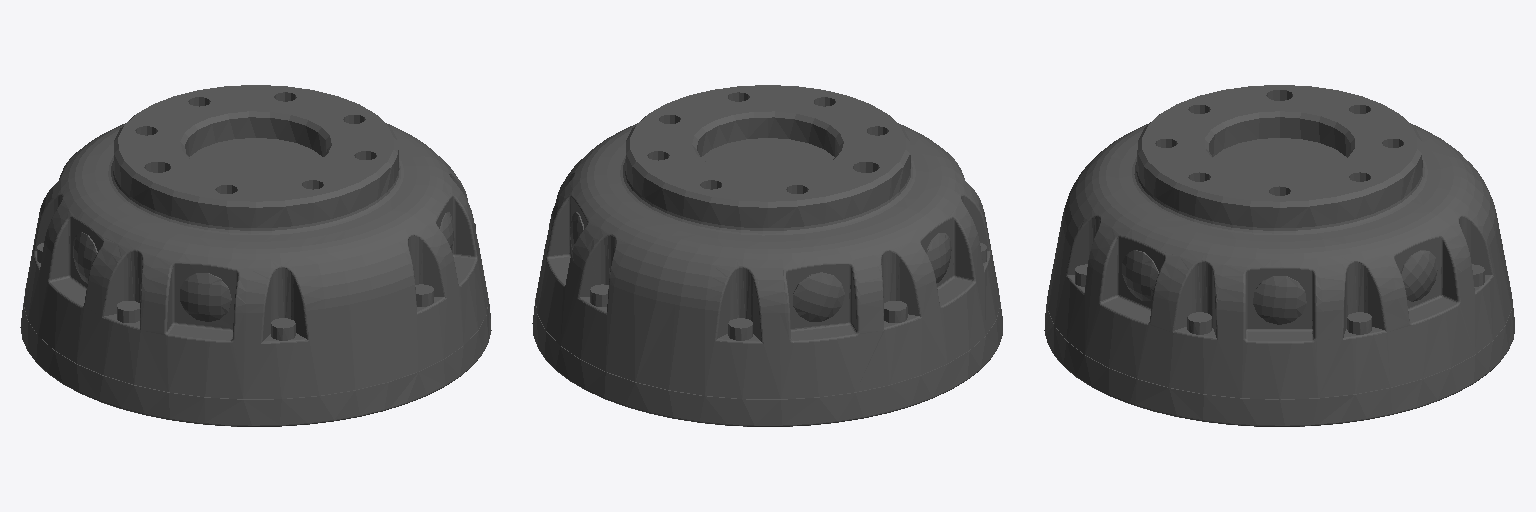
The robot description file, URDF, robot "iiwa7":
<?xml version="1.0" encoding="utf-8"?>
<robot name="iiwa7">
  <material name="Black">
    <color rgba="0.0 0.0 0.0 1.0"/>
  </material>
  <material name="Blue">
    <color rgba="0.0 0.0 0.8 1.0"/>
  </material>
  <material name="Green">
    <color rgba="0.0 0.8 0.0 1.0"/>
  </material>
  <material name="Grey">
    <color rgba="0.4 0.4 0.4 1.0"/>
  </material>
  <material name="Orange">
    <color rgba="1 0.423529 0.039216 1.0"/>
  </material>
  <material name="Brown">
    <color rgba="0.870588 0.811765 0.764706 1.0"/>
  </material>
  <material name="Red">
    <color rgba="0.8 0.0 0.0 1.0"/>
  </material>
  <material name="White">
    <color rgba="1.0 1.0 1.0 1.0"/>
  </material>
  <link name="iiwa_link_0">
    <inertial>
      <origin rpy="0 0 0" xyz="-0.1 0 0.07"/>
      <mass value="5"/>
      <inertia ixx="0.05" ixy="0" ixz="0" iyy="0.06" iyz="0" izz="0.03"/>
    </inertial>
    <visual>
      <origin rpy="0 0 0" xyz="0 0 0"/>
      <geometry>
        <mesh filename="package://iiwa_description/meshes/iiwa7/visual/link_0.obj"/>
      </geometry>
      <material name="Grey"/>
    </visual>
    <collision>
      <geometry>
        <box size="0.216759 0.207644 0.1575"/>
      </geometry>
      <material name="Grey"/>
      <origin rpy="0.0 -0.0 0.0" xyz="-0.0046205 0.0 0.07875"/>
    </collision>
  </link>
  <joint name="iiwa_joint_1" type="revolute">
    <parent link="iiwa_link_0"/>
    <child link="iiwa_link_1"/>
    <origin rpy="0 0 0" xyz="0 0 0.15"/>
    <axis xyz="0 0 1"/>
    <limit effort="300" lower="-2.96706" upper="2.96706" velocity="10"/>
  </joint>
  <link name="iiwa_link_1">
    <inertial>
      <origin rpy="0 0 0" xyz="0 -0.03 0.12"/>
      <mass value="3.4525"/>
      <inertia ixx="0.02183" ixy="0" ixz="0" iyy="0.007703" iyz="-0.003887" izz="0.02083"/>
    </inertial>
    <visual>
      <origin rpy="0 0 0" xyz="0 0 0.0075"/>
      <geometry>
        <mesh filename="package://iiwa_description/meshes/iiwa7/visual/link_1.obj"/>
      </geometry>
      <material name="Grey"/>
    </visual>
    <collision>
      <geometry>
        <box size="0.13596 0.182584 0.26099300000000003"/>
      </geometry>
      <material name="Orange"/>
      <origin rpy="0.0 -0.0 0.0" xyz="0.0 -0.023301000000000002 0.1279965"/>
    </collision>
  </link>
  <joint name="iiwa_joint_2" type="revolute">
    <parent link="iiwa_link_1"/>
    <child link="iiwa_link_2"/>
    <origin rpy="1.570796   0 3.1415926535897931" xyz="0 0 0.19"/>
    <axis xyz="0 0 1"/>
    <limit effort="300" lower="-2.094395" upper="2.094395" velocity="10"/>
  </joint>
  <link name="iiwa_link_2">
    <inertial>
      <origin rpy="0 0 0" xyz="0.0003 0.059 0.042"/>
      <mass value="3.4821"/>
      <inertia ixx="0.02076" ixy="0" ixz="-0.003626" iyy="0.02179" iyz="0" izz="0.00779"/>
    </inertial>
    <visual>
      <origin rpy="0 0 0" xyz="0 0 0"/>
      <geometry>
        <mesh filename="package://iiwa_description/meshes/iiwa7/visual/link_2.obj"/>
      </geometry>
      <material name="Orange"/>
    </visual>
    <collision>
      <geometry>
        <box size="0.135988 0.251998 0.18240699999999999"/>
      </geometry>
      <material name="Orange"/>
      <origin rpy="0.0 -0.0 0.0" xyz="0.0 0.058001 0.023204499999999996"/>
    </collision>
  </link>
  <joint name="iiwa_joint_3" type="revolute">
    <parent link="iiwa_link_2"/>
    <child link="iiwa_link_3"/>
    <origin rpy="1.570796 0 3.1415926535897931" xyz="0 0.21 0"/>
    <axis xyz="0 0 1"/>
    <limit effort="300" lower="-2.96706" upper="2.96706" velocity="10"/>
  </joint>
  <link name="iiwa_link_3">
    <inertial>
      <origin rpy="0 0 0" xyz="0 0.03 0.13"/>
      <mass value="4.05623"/>
      <inertia ixx="0.03204" ixy="0" ixz="0" iyy="0.00972" iyz="0.006227" izz="0.03042"/>
    </inertial>
    <visual>
      <origin rpy="0 0 0" xyz="0 0 -0.026"/>
      <geometry>
        <mesh filename="package://iiwa_description/meshes/iiwa7/visual/link_3.obj"/>
      </geometry>
      <material name="Grey"/>
    </visual>
    <collision>
      <geometry>
        <box size="0.136 0.182593 0.29349400000000003"/>
      </geometry>
      <material name="Orange"/>
      <origin rpy="0.0 -0.0 0.0" xyz="0.0 0.023296499999999998 0.11074700000000001"/>
    </collision>
  </link>
  <joint name="iiwa_joint_4" type="revolute">
    <parent link="iiwa_link_3"/>
    <child link="iiwa_link_4"/>
    <origin rpy="1.570796 0 0" xyz="0 0 0.19"/>
    <axis xyz="0 0 1"/>
    <limit effort="300" lower="-2.094395" upper="2.094395" velocity="10"/>
  </joint>
  <link name="iiwa_link_4">
    <inertial>
      <origin rpy="0 0 0" xyz="0 0.067 0.034"/>
      <mass value="3.4822"/>
      <inertia ixx="0.02178" ixy="0" ixz="0" iyy="0.02075" iyz="-0.003625" izz="0.007785"/>
    </inertial>
    <visual>
      <origin rpy="0 0 0" xyz="0 0 0"/>
      <geometry>
        <mesh filename="package://iiwa_description/meshes/iiwa7/visual/link_4.obj"/>
      </geometry>
      <material name="Orange"/>
    </visual>
    <collision>
      <geometry>
        <box size="0.135988 0.251998 0.18240699999999999"/>
      </geometry>
      <material name="Orange"/>
      <origin rpy="0.0 -0.0 0.0" xyz="0.0 0.058001 0.023204499999999996"/>
    </collision>
  </link>
  <joint name="iiwa_joint_5" type="revolute">
    <parent link="iiwa_link_4"/>
    <child link="iiwa_link_5"/>
    <origin rpy="-1.570796 3.1415926535897931 0" xyz="0 0.21 0"/>
    <axis xyz="0 0 1"/>
    <limit effort="300" lower="-2.96706" upper="2.96706" velocity="10"/>
  </joint>
  <link name="iiwa_link_5">
    <inertial>
      <origin rpy="0 0 0" xyz="0.0001 0.021 0.076"/>
      <mass value="2.1633"/>
      <inertia ixx="0.01287" ixy="0" ixz="0" iyy="0.005708" iyz="-0.003946" izz="0.01112"/>
    </inertial>
    <visual>
      <origin rpy="0 0 0" xyz="0 0 -0.026"/>
      <geometry>
        <mesh filename="package://iiwa_description/meshes/iiwa7/visual/link_5.obj"/>
      </geometry>
      <material name="Grey"/>
    </visual>
    <collision>
      <geometry>
        <box size="0.136 0.16702 0.276793"/>
      </geometry>
      <material name="Orange"/>
      <origin rpy="0.0 -0.0 0.0" xyz="0.0 0.015509999999999996 0.1023965"/>
    </collision>
  </link>
  <joint name="iiwa_joint_6" type="revolute">
    <parent link="iiwa_link_5"/>
    <child link="iiwa_link_6"/>
    <origin rpy="1.570796 0 0" xyz="0 0.06070 0.19"/>
    <axis xyz="0 0 1"/>
    <limit effort="300" lower="-2.094395" upper="2.094395" velocity="10"/>
  </joint>
  <link name="iiwa_link_6">
    <inertial>
      <origin rpy="0 0 0" xyz="0 0.0006 0.0004"/>
      <mass value="2.3466"/>
      <inertia ixx="0.006509" ixy="0" ixz="0" iyy="0.006259" iyz="0.00031891" izz="0.004527"/>
    </inertial>
    <visual>
      <origin rpy="0 0 0" xyz="0 0 0"/>
      <geometry>
        <mesh filename="package://iiwa_description/meshes/iiwa7/visual/link_6.obj"/>
      </geometry>
      <material name="Orange"/>
    </visual>
    <collision>
      <geometry>
        <box size="0.132301 0.17726 0.137409"/>
      </geometry>
      <material name="Orange"/>
      <origin rpy="0.0 -0.0 0.0" xyz="1.5000000000015001e-06 0.0022699999999999942 0.0582045"/>
    </collision>
  </link>
  <joint name="iiwa_joint_7" type="revolute">
    <parent link="iiwa_link_6"/>
    <child link="iiwa_link_7"/>
    <origin rpy="-1.570796 3.1415926535897931 0" xyz="0 0.081 0.06070"/>
    <axis xyz="0 0 1"/>
    <limit effort="300" lower="-3.054326" upper="3.054326" velocity="10"/>
  </joint>
  <link name="iiwa_link_7">
    <inertial>
      <origin rpy="0 0 0" xyz="0 0 0.02"/>
      <mass value="3.129"/>
      <inertia ixx="0.01464" ixy="0.0005912" ixz="0" iyy="0.01465" iyz="0" izz="0.002872"/>
    </inertial>
    <visual>
      <origin rpy="0 0 0" xyz="0 0 -0.0005"/>
      <geometry>
        <mesh filename="package://iiwa_description/meshes/iiwa7/visual/link_7.obj"/>
      </geometry>
      <material name="Grey"/>
    </visual>
    <!-- <collision>
      <geometry>
        <box size="0.103835 0.103813 0.045000000000000005"/>
      </geometry>
      <material name="Grey"/>
      <origin rpy="0.0 -0.0 0.0" xyz="1.3499999999999623e-05 3.650000000000181e-05 0.021997"/>
    </collision> -->
  </link>
  <joint name="iiwa_joint_ee" type="fixed">
    <parent link="iiwa_link_7"/>
    <child link="iiwa_link_ee"/>
    <origin rpy="0 0 0" xyz="0 0 0.045"/>
  </joint>
  <link name="iiwa_link_ee"/>
</robot>

--- Render facts (derived) ---
The picture shows the robot from 3 angles, left to right: view 1: azimuth 30°, elevation 25°; view 2: azimuth 150°, elevation 25°; view 3: azimuth 270°, elevation 25°; orthographic projection.
Robot: iiwa7 — 9 links, 8 joints (7 revolute, 1 fixed); root link iiwa_link_0; default pose: all joints at 0.
Visible links, largest first — view 1: iiwa_link_7; view 2: iiwa_link_7; view 3: iiwa_link_7.
Boxes of the visible links, x1,y1,x2,y2 form: iiwa_link_7: [20, 85, 491, 426]; iiwa_link_7: [532, 85, 1002, 426]; iiwa_link_7: [1044, 85, 1514, 426].
Bounding box of the posed robot: 0.1038 × 0.1038 × 0.045 m (x, y, z).
Meshes: 8 distinct files referenced, 1 mesh visuals loaded (1 OBJ); not drawn: 7 (reference not matched to a file when rendering).